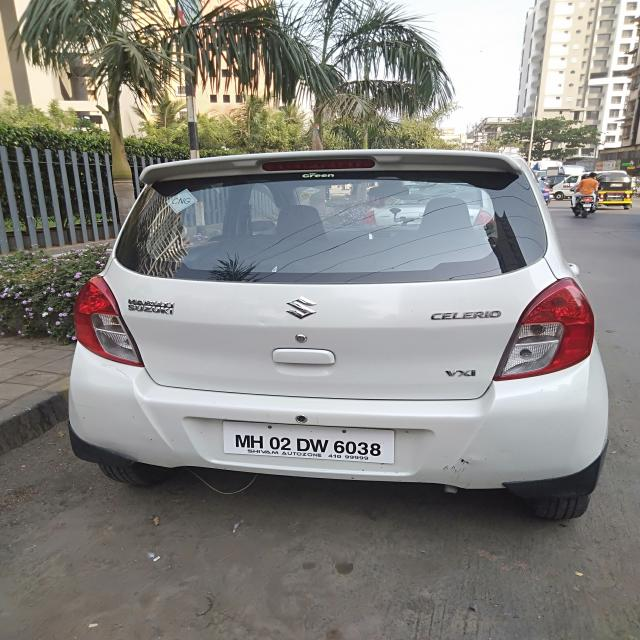Number-Plate: (221, 423, 391, 461)
